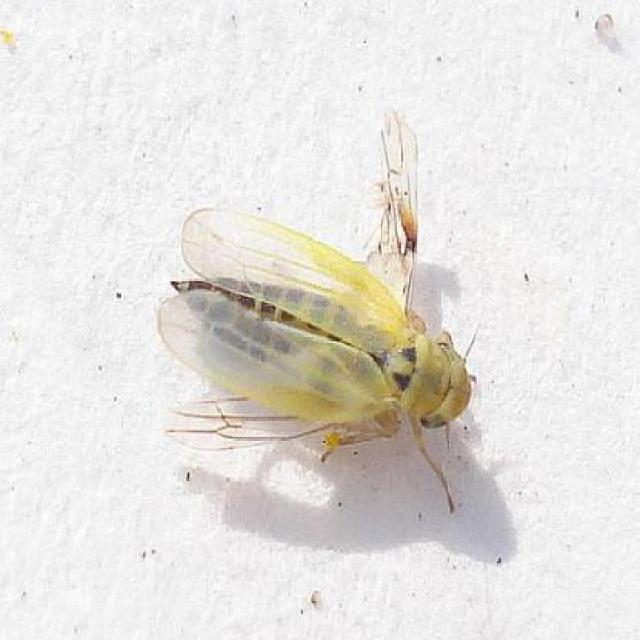green-leafhopper: (169, 196, 457, 481)
